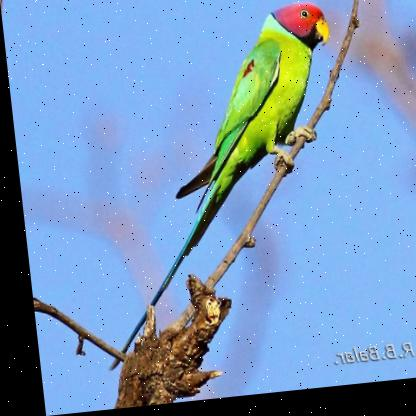Burung: (71, 6, 356, 372)
